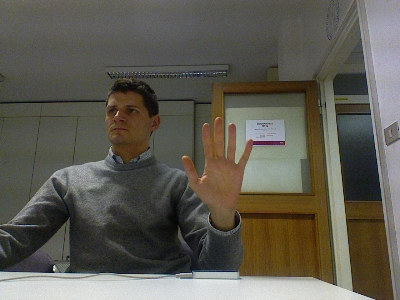布: (180, 114, 254, 209)
